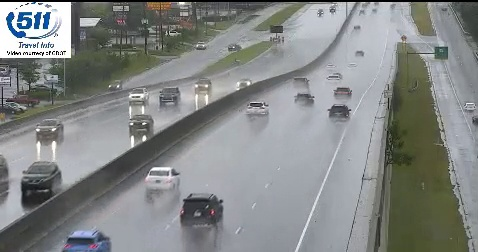car: (180, 193, 223, 226), (64, 231, 111, 252), (145, 167, 179, 192), (246, 101, 269, 117), (328, 104, 349, 120), (295, 93, 314, 107), (334, 87, 352, 100)
